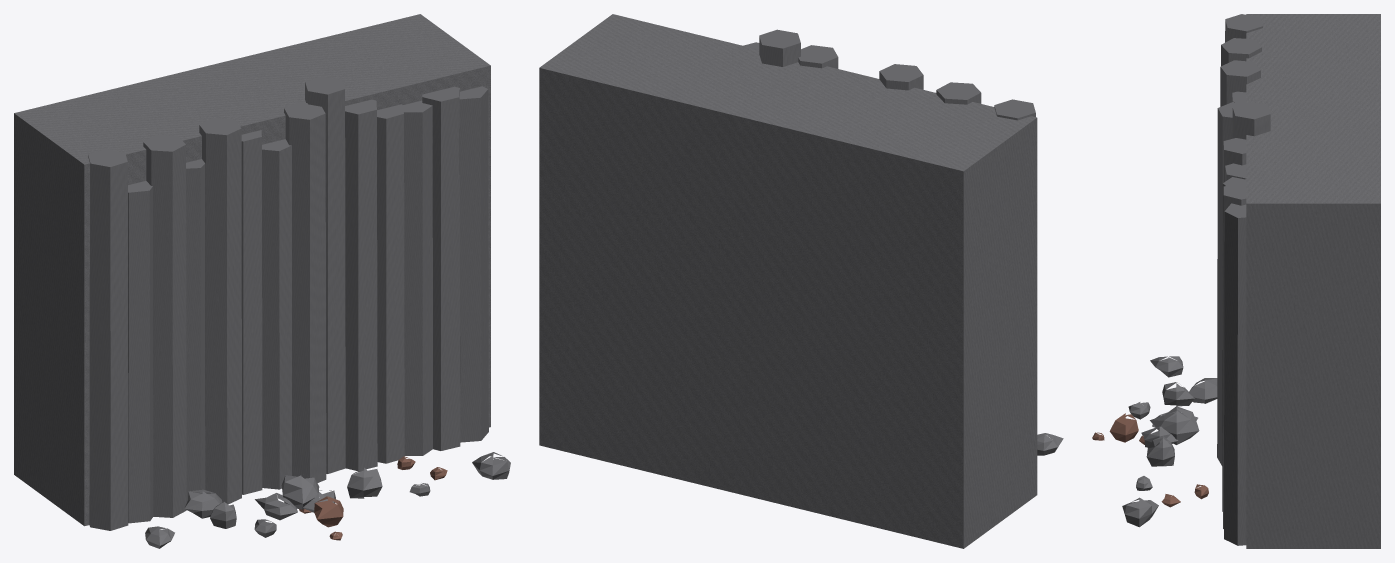
File: volcano-and-lava-fields-volcano-and-lava-fields-cliff--8b9b8118__37451.glb
3 renders of one model, left to right at view 1: azimuth 30°, elevation 25°; view 2: azimuth 150°, elevation 25°; view 3: azimuth 270°, elevation 25°, orthographic. The views are drawn at different scales.
Parts seen in each view (by area): view 1: volcano-and-lava-fields-cliff-face-module; view 2: volcano-and-lava-fields-cliff-face-module; view 3: volcano-and-lava-fields-cliff-face-module.
Boxes of the visible parts, x1,y1,x2,y2 form: volcano-and-lava-fields-cliff-face-module: (14,14,510,548); volcano-and-lava-fields-cliff-face-module: (539,14,1063,548); volcano-and-lava-fields-cliff-face-module: (1092,14,1380,548).
Size of the model in its own units: 4 by 3.57 by 2.58.
2 materials, 2 textured.
